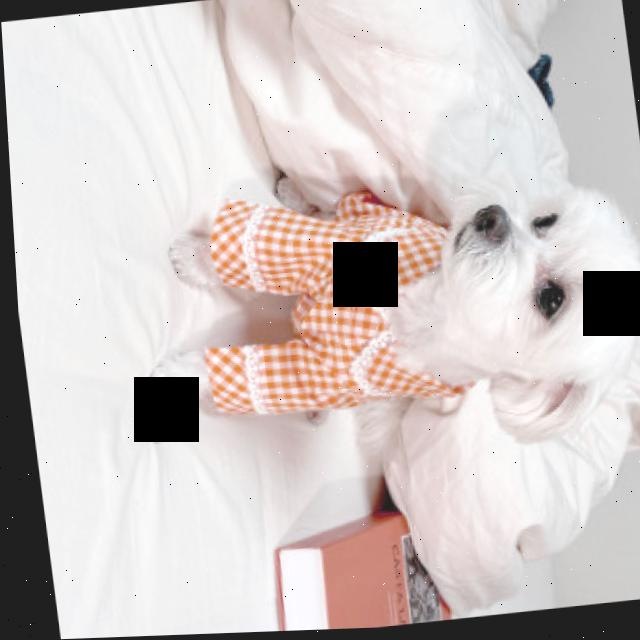cloth: (198, 195, 460, 414)
